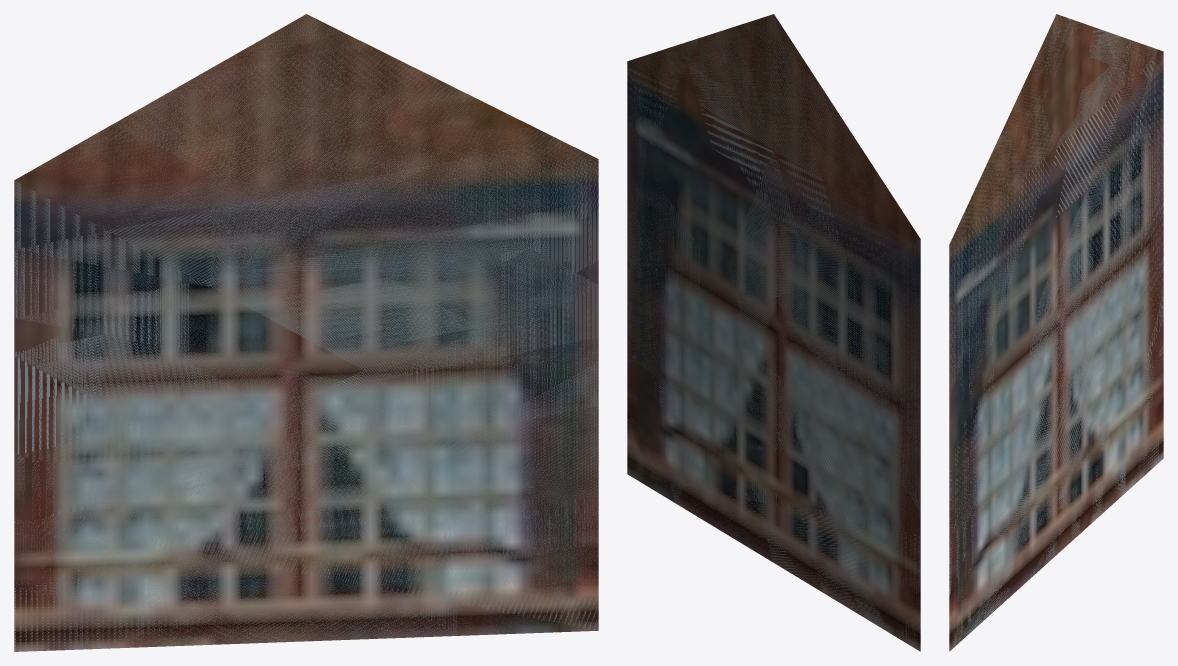
The model's file is 西庸城堡548.dae.
The picture shows the model from 3 angles, left to right: view 1: azimuth 30°, elevation 25°; view 2: azimuth 150°, elevation 25°; view 3: azimuth 270°, elevation 25°; orthographic projection. The views are drawn at different scales.
Visible parts, largest first — view 1: SketchUp; view 2: SketchUp; view 3: SketchUp.
Boxes of the visible parts, x1,y1,x2,y2 form: SketchUp: (14, 14, 598, 651); SketchUp: (627, 14, 920, 651); SketchUp: (949, 14, 1163, 651).
Bounding box in the file's own units: 71.3 × 33.41 × 92.95.
